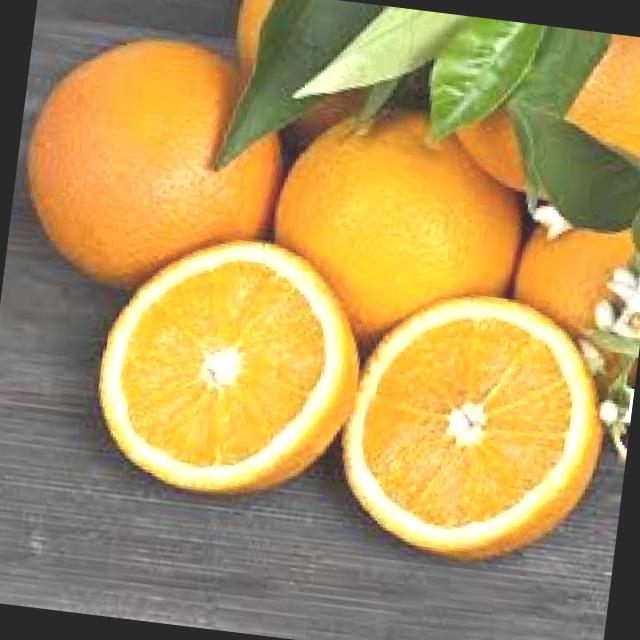Orange: (328, 278, 621, 576), (87, 219, 376, 511), (12, 21, 297, 306), (260, 91, 538, 362), (449, 16, 640, 208), (219, 0, 396, 150), (502, 208, 640, 400)
